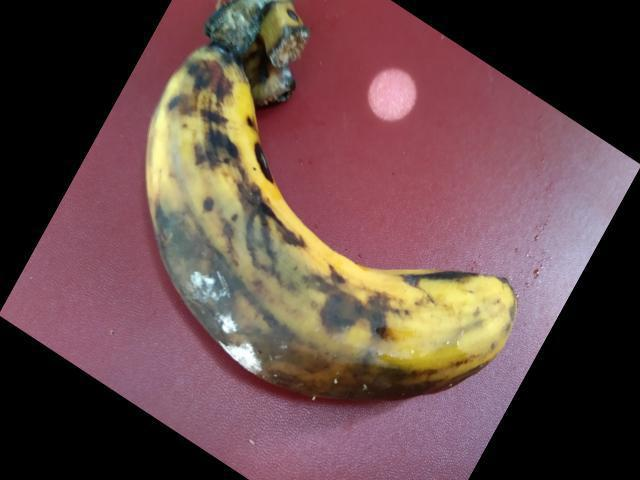rotten: (142, 44, 529, 436)
